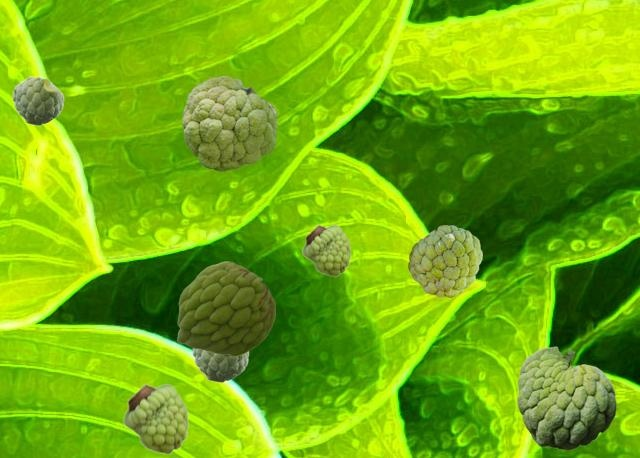atis: (517, 346, 615, 449), (177, 261, 274, 355), (182, 76, 276, 170), (408, 225, 481, 296), (123, 383, 188, 454), (302, 224, 350, 276), (12, 76, 63, 124), (192, 349, 248, 381)
